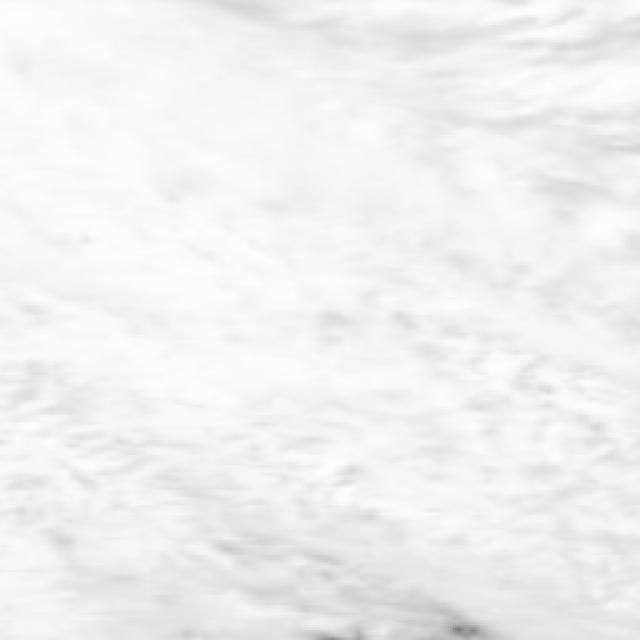CB: (405, 0, 640, 238), (206, 415, 449, 640), (404, 220, 640, 440), (0, 419, 227, 640), (182, 0, 404, 223), (197, 217, 426, 431), (0, 214, 214, 426), (437, 417, 640, 640), (0, 0, 190, 213)
